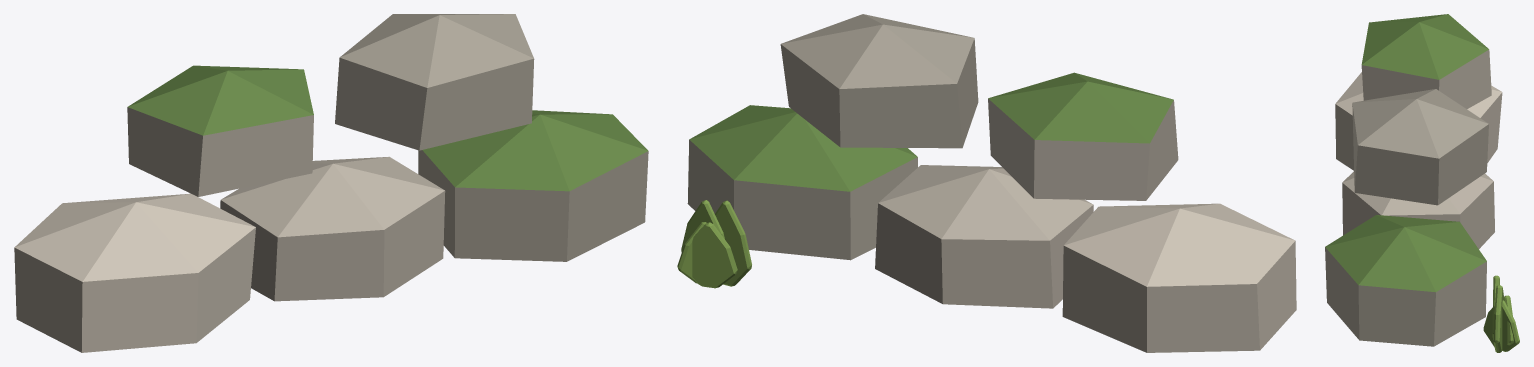
Rendered from prop_stone_wall_low.glb.
The picture shows the model from 3 angles, left to right: view 1: azimuth 30°, elevation 25°; view 2: azimuth 150°, elevation 25°; view 3: azimuth 270°, elevation 25°; orthographic projection. The views are drawn at different scales.
Visible parts, largest first — view 1: low_wall_a_0, low_wall_a_2, low_wall_a_1, low_wall_b_1, low_wall_b_0; view 2: low_wall_a_0, low_wall_a_1, low_wall_a_2, low_wall_b_1, low_wall_b_0, low_wall_tuft_b2, low_wall_tuft_b1, low_wall_tuft_b0, low_wall_tuft_b3; view 3: low_wall_a_2, low_wall_b_1, low_wall_b_0, low_wall_a_1, low_wall_a_0, low_wall_tuft_b3, low_wall_tuft_b0, low_wall_tuft_b2, low_wall_tuft_b1.
Boxes of the visible parts, x1,y1,x2,y2 form: low_wall_a_0: (14,193,255,352); low_wall_a_2: (418,110,648,261); low_wall_a_1: (220,156,445,301); low_wall_b_1: (335,14,534,150); low_wall_b_0: (127,65,313,196); low_wall_a_0: (1062,203,1296,352); low_wall_a_1: (875,165,1093,308); low_wall_a_2: (687,105,917,260); low_wall_b_1: (780,14,978,148); low_wall_b_0: (988,72,1178,200); low_wall_tuft_b2: (692,222,737,288); low_wall_tuft_b1: (715,200,751,286); low_wall_tuft_b0: (681,200,724,252); low_wall_tuft_b3: (677,222,706,283); low_wall_a_2: (1325,215,1486,346); low_wall_b_1: (1352,89,1488,205); low_wall_b_0: (1361,14,1491,108); low_wall_a_1: (1342,171,1494,248); low_wall_a_0: (1335,72,1502,170); low_wall_tuft_b3: (1483,300,1519,351); low_wall_tuft_b0: (1493,285,1503,352); low_wall_tuft_b2: (1503,295,1513,345); low_wall_tuft_b1: (1492,275,1499,339).
Bounding box in the file's own units: 1.6 × 0.6645 × 0.5778.
